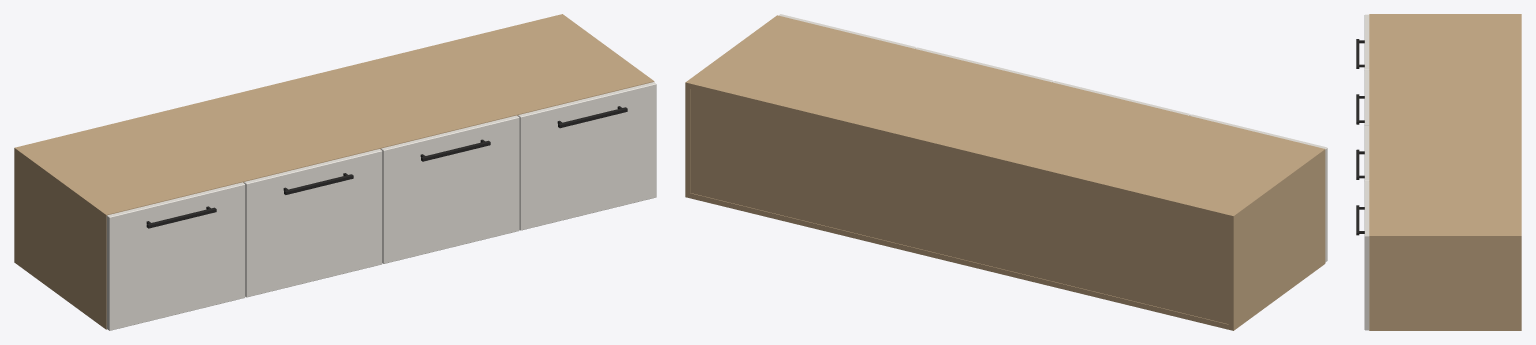
Rendered from 25_nadstawka_200.glb.
The picture shows the model from 3 angles, left to right: view 1: azimuth 30°, elevation 25°; view 2: azimuth 150°, elevation 25°; view 3: azimuth 270°, elevation 25°; orthographic projection. The views are drawn at different scales.
Parts seen in each view (by area): view 1: Korpus, Front_klapa_1, Front_klapa_3, Front_klapa_4, Front_klapa_2, Uchwyty; view 2: Korpus, Front_klapa_1; view 3: Korpus, Front_klapa_4, Uchwyty, Front_klapa_2, Front_klapa_1, Front_klapa_3.
Boxes of the visible parts, box(x1,y1,x2,y2) form: Korpus: box(14, 14, 654, 329); Front_klapa_1: box(106, 182, 245, 330); Front_klapa_3: box(381, 115, 519, 263); Front_klapa_4: box(518, 82, 656, 230); Front_klapa_2: box(244, 149, 382, 297); Uchwyty: box(146, 106, 627, 228); Korpus: box(685, 15, 1325, 330); Front_klapa_1: box(1190, 114, 1327, 262); Korpus: box(1369, 14, 1521, 330); Front_klapa_4: box(1364, 181, 1369, 330); Uchwyty: box(1356, 39, 1364, 235); Front_klapa_2: box(1364, 70, 1369, 125); Front_klapa_1: box(1364, 14, 1369, 69); Front_klapa_3: box(1364, 125, 1369, 180).
Bounding box in the file's own units: 2 × 0.4 × 0.63.
